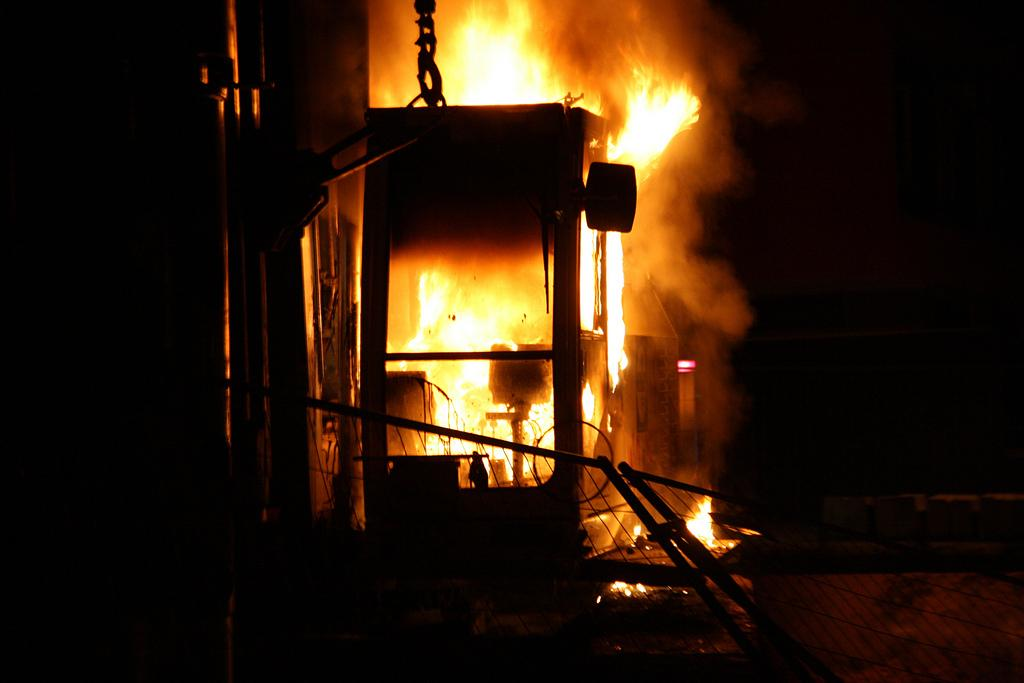fire: (445, 5, 555, 102), (407, 270, 532, 350), (610, 53, 697, 162), (578, 233, 638, 353), (432, 365, 493, 452)
